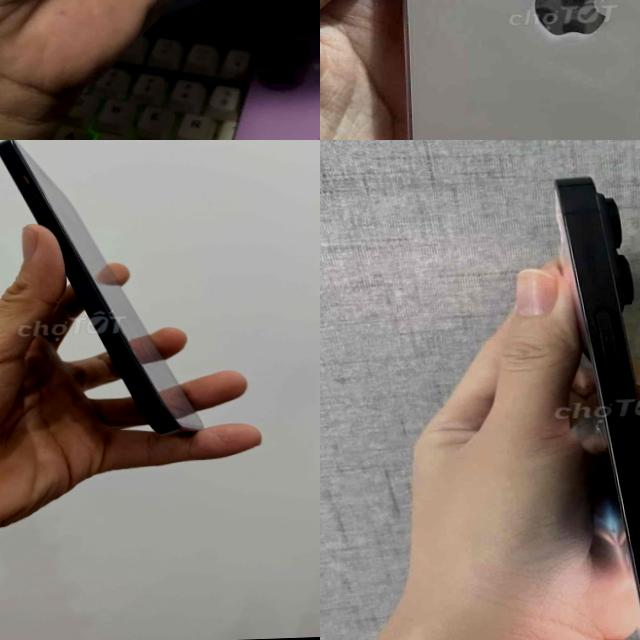gen_12_13: (385, 0, 640, 140)
gen_14: (530, 150, 640, 640)
gen_15: (0, 140, 242, 462)
